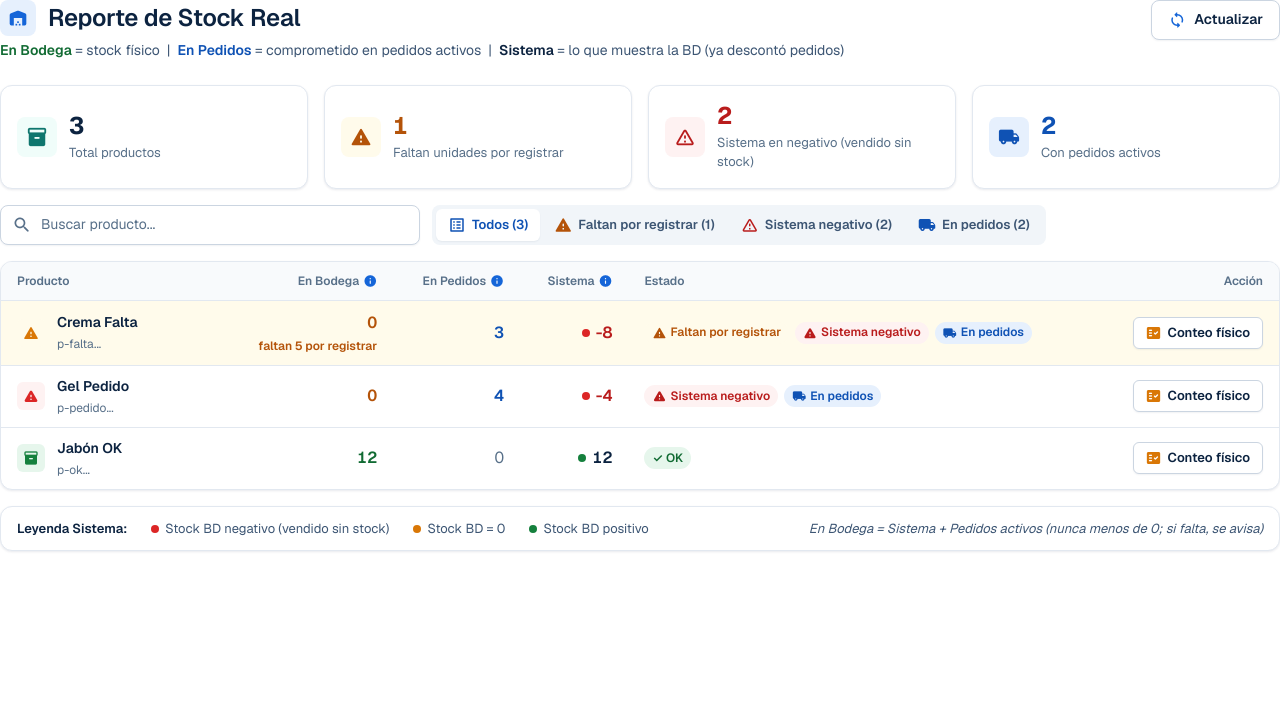
Test: "Conteo físico" abre el modal con lo que hay en pedidos
The width and height of the screenshot is (1280, 720).
Expected: the text "Crema Falta" is shown, [57,312,138,333]
Click the button "Conteo físico" in the row of "Crema Falta". click: [1198, 333]
box: [1133,317,1263,349]
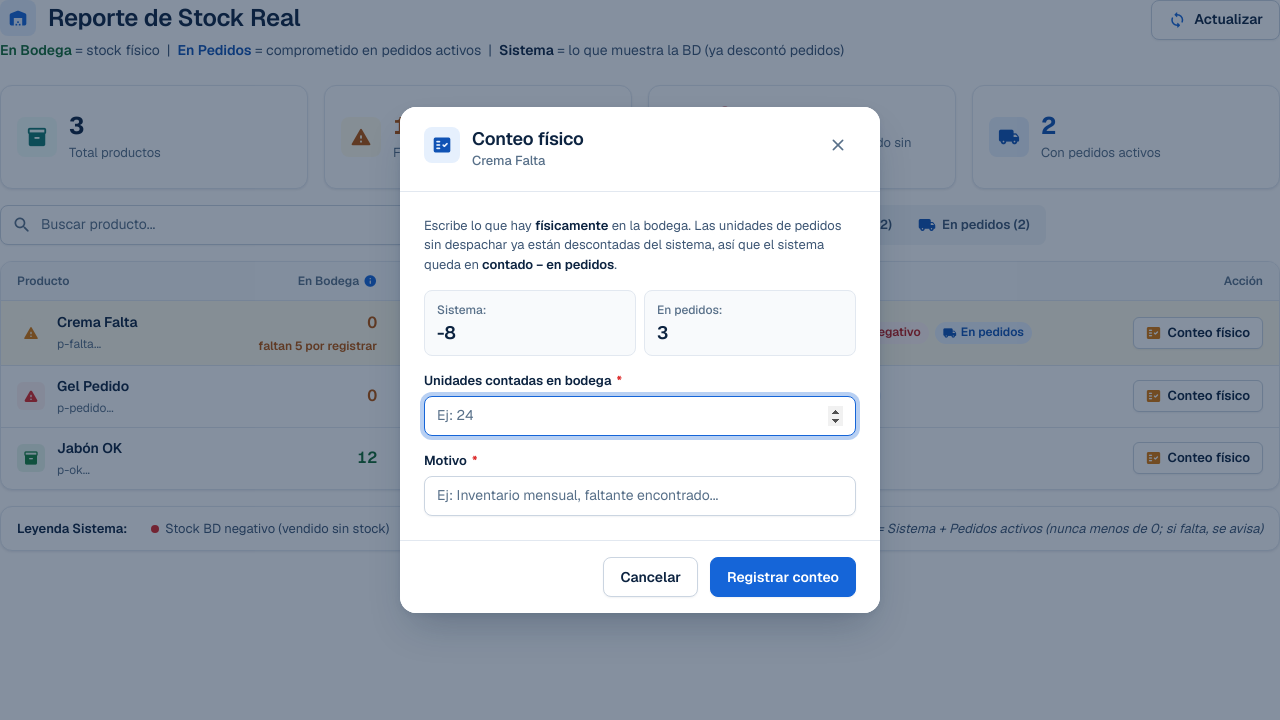
Expected: the text "Crema Falta" is shown, [472,152,545,169]
Type "10" into the number field labelled "Unidades contadas en bodega *". click: [640, 416]
box: [424,396,856,436]
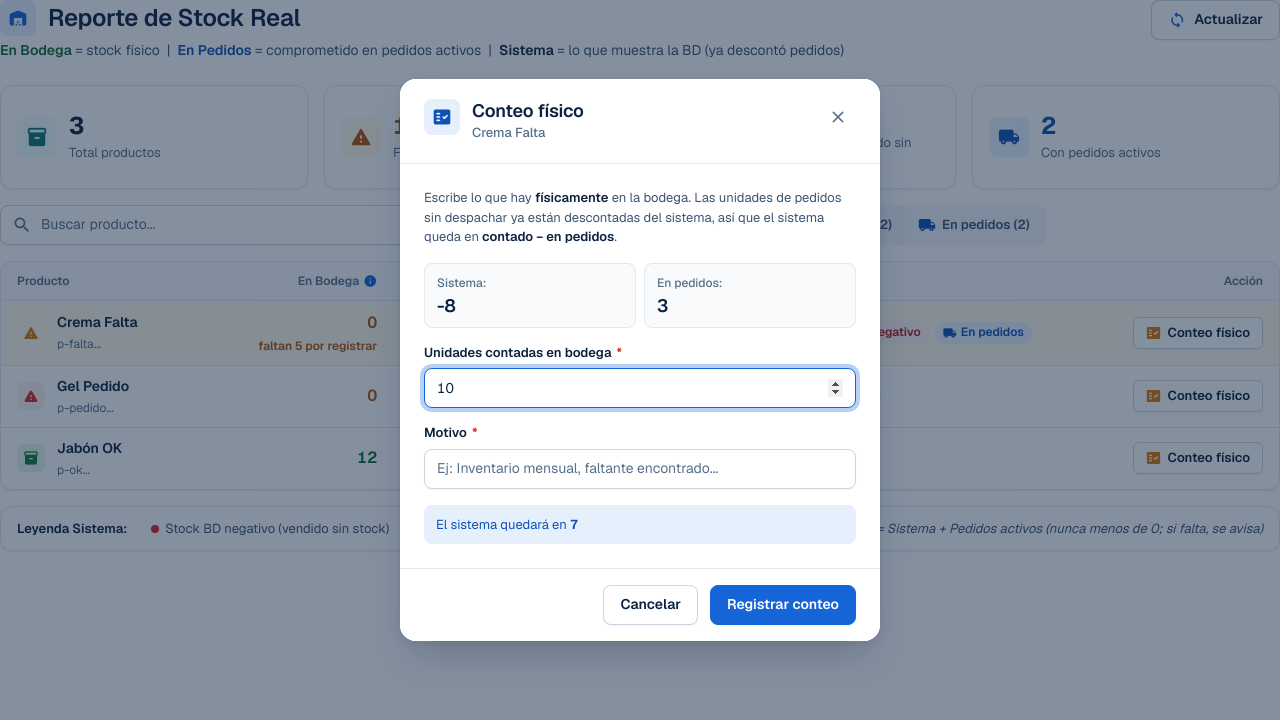
Expected: the text "El sistema quedará en 7" is shown, [424,504,856,544]
